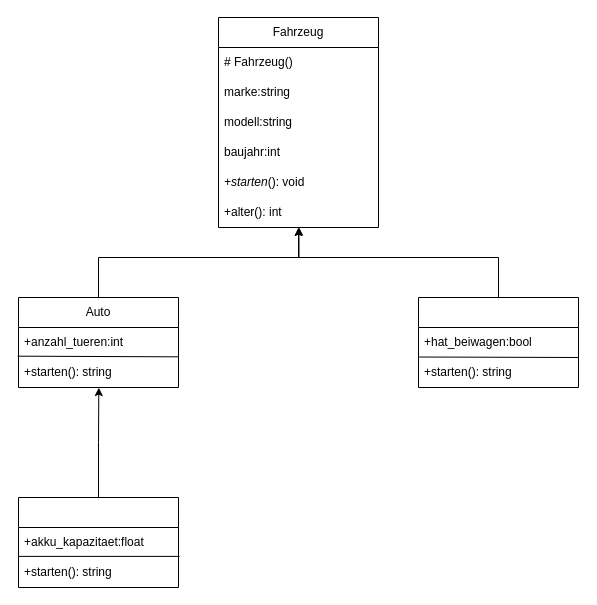
Image size: 597x605. Some labels were removed from this diagram. Each missing label, with the box of its shape:
Elektroauto: (18, 496, 178, 588)
Motorad: (418, 296, 578, 388)
